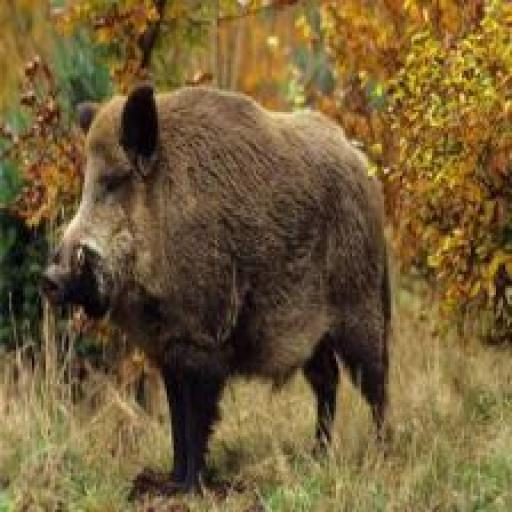Pig: (41, 87, 391, 487)
